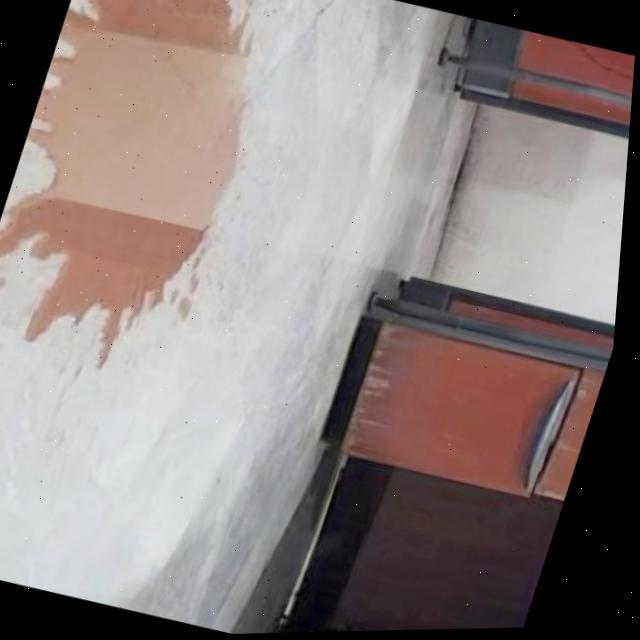spillage: (0, 0, 247, 340)
